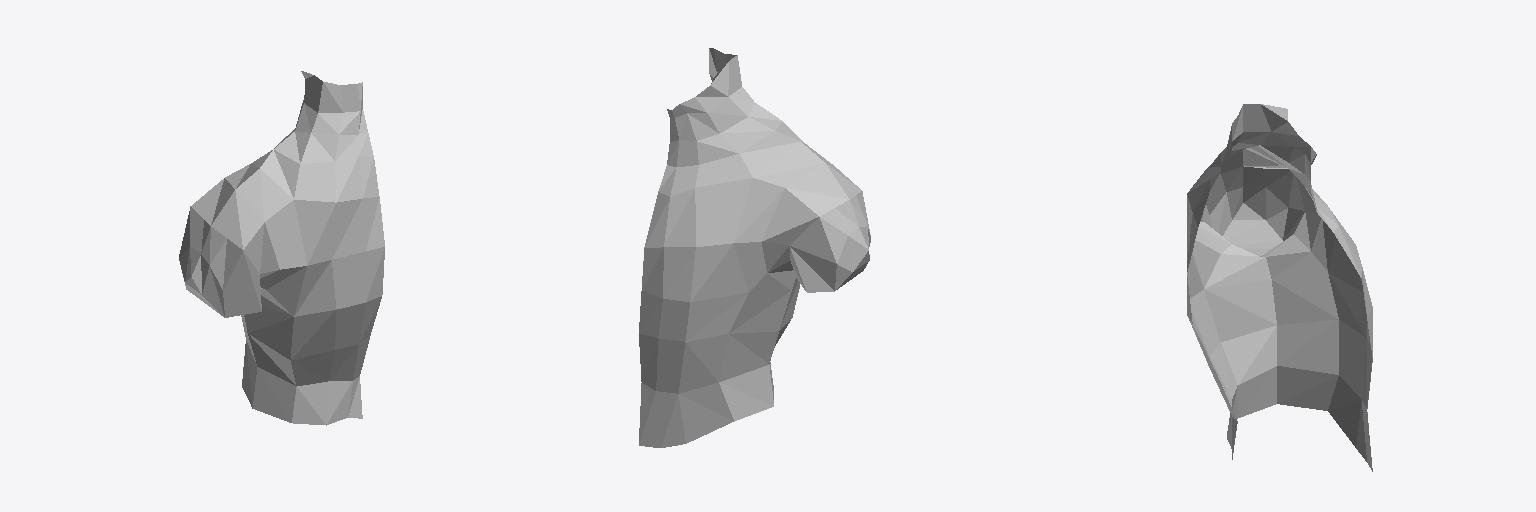
File: torso_half.obj
The picture shows the model from 3 angles: view 1: azimuth 30°, elevation 25°; view 2: azimuth 150°, elevation 25°; view 3: azimuth 270°, elevation 25°; orthographic projection.
Parts seen in each view (by area): view 1: base_human_male_default; view 2: base_human_male_default; view 3: base_human_male_default.
Part boxes in pixels (x1,y1,x2,y2): base_human_male_default: (179, 71, 384, 425); base_human_male_default: (639, 48, 870, 447); base_human_male_default: (1187, 104, 1372, 471).
Size of the model in its own units: 3.4 by 6.9 by 3.3.